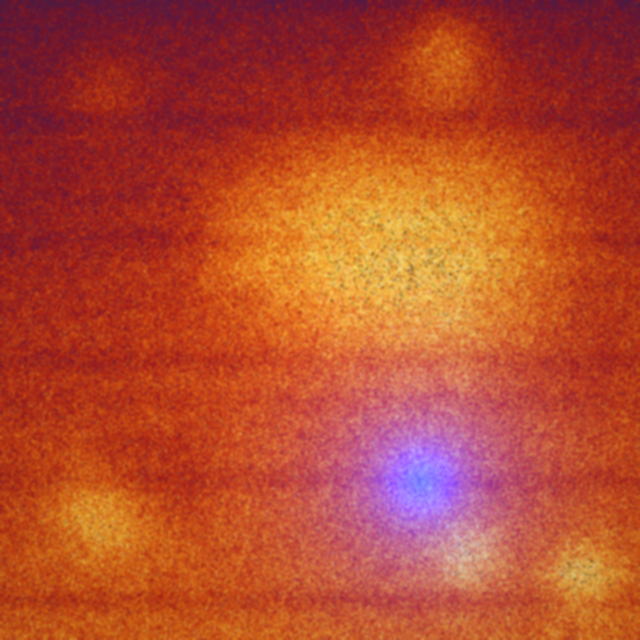nozzle: (371, 444, 468, 527)
